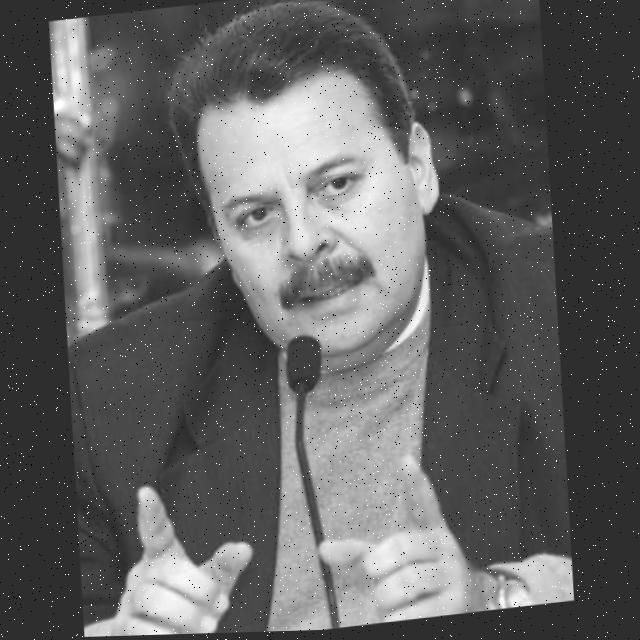face: (156, 21, 450, 389)
